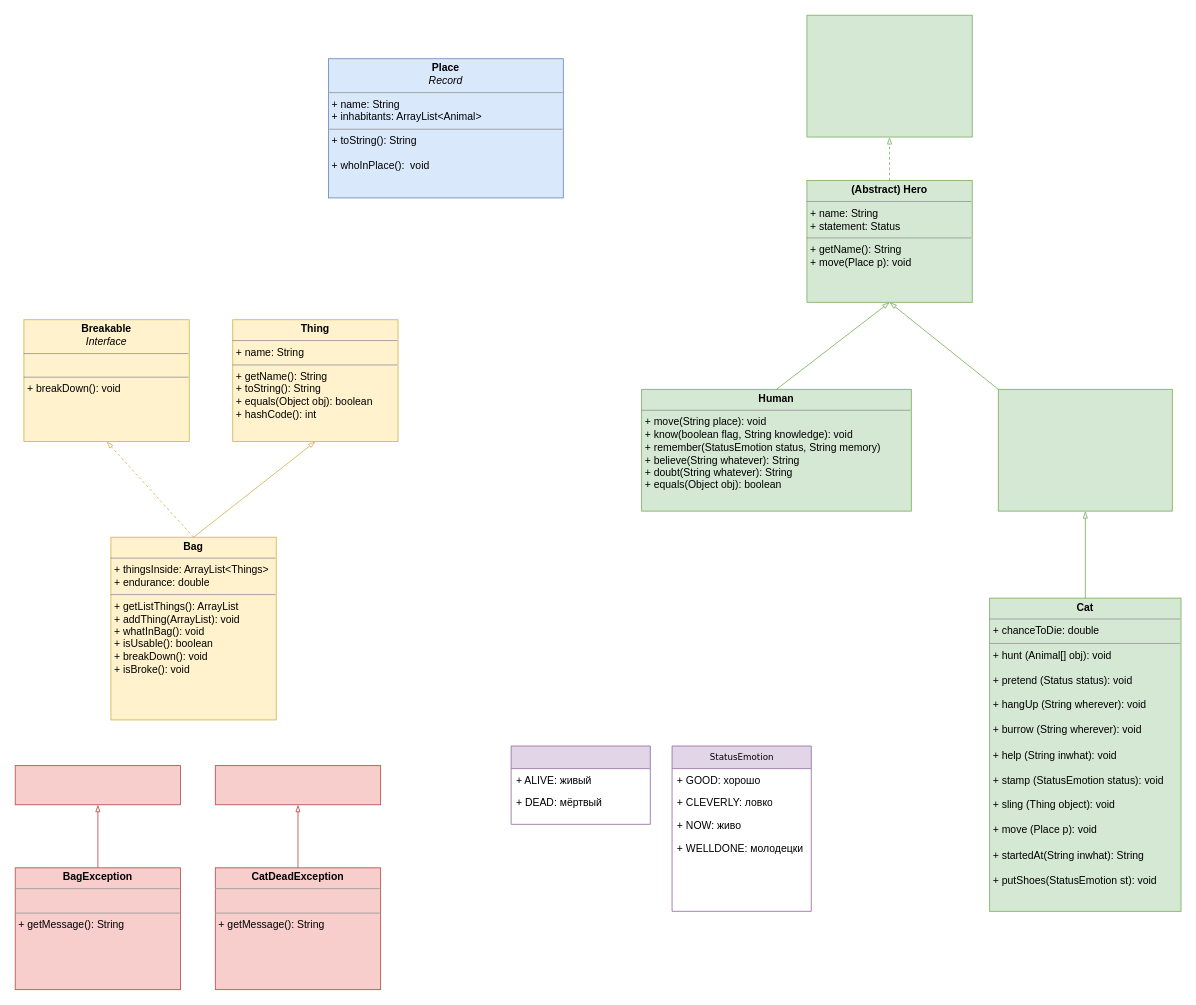
Some shapes in this 1196 by 1005 pixel diagram are drawn without their labels. The box of each missing label's shape, as (x1, y1, x2, y2) in pixels:
Animal + move(Place p): void + equals(Object obj): boolean: (997, 388, 1172, 511)
Exception: (14, 765, 181, 805)
Movable Interface + move (Place p): void: (806, 14, 972, 137)
RuntimeException: (214, 765, 381, 805)
Status: (510, 745, 650, 824)
